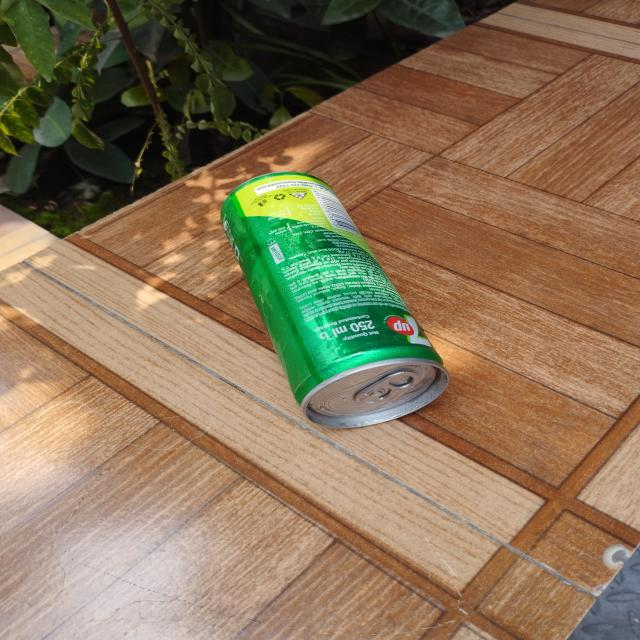aluminum: (222, 172, 450, 427)
